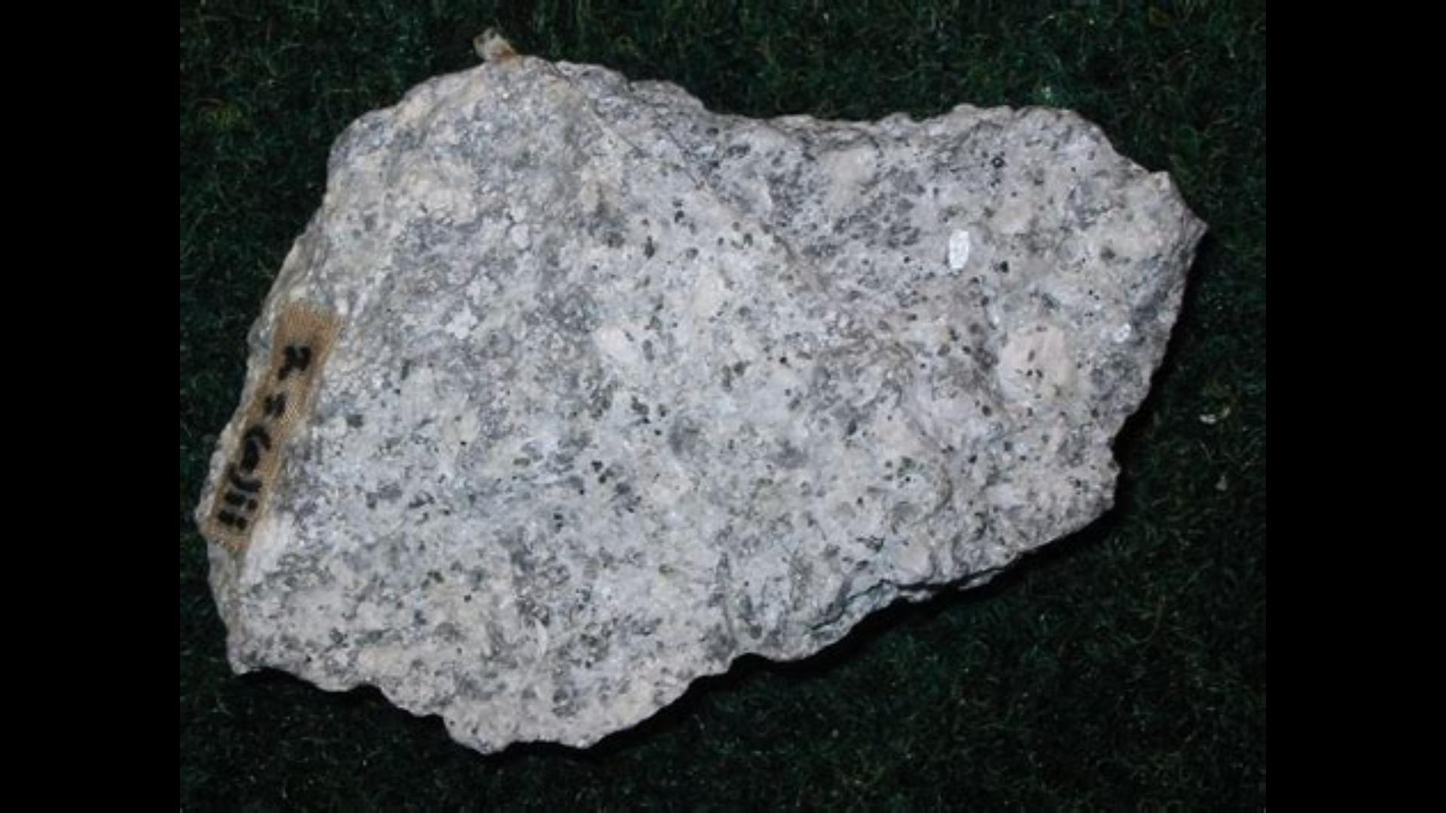rock: (198, 41, 1202, 749)
